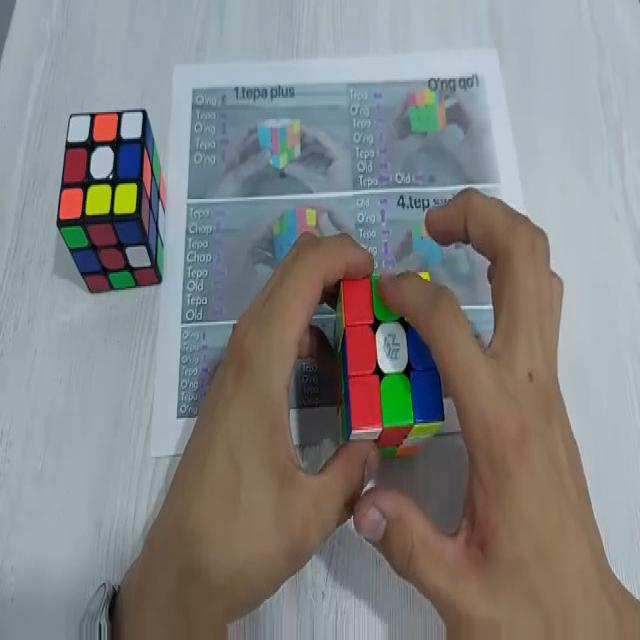Rub: (59, 108, 166, 291), (341, 273, 443, 456)
